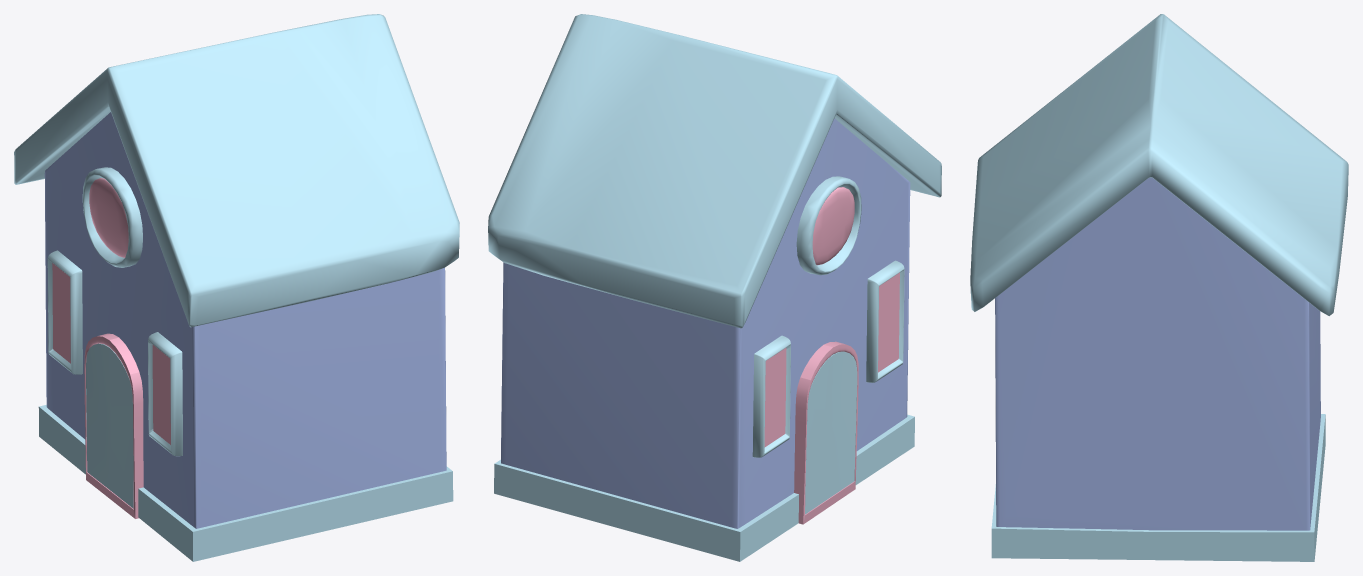
The picture shows the model from 3 angles, left to right: view 1: azimuth 30°, elevation 25°; view 2: azimuth 150°, elevation 25°; view 3: azimuth 270°, elevation 25°; orthographic projection. The views are drawn at different scales.
Visible parts, largest first — view 1: s.0143, s.0152, s.0153, s.0148, s.0144, s.0151, s.0150, s.0147, s.0145; view 2: s.0143, s.0152, s.0153, s.0148, s.0144, s.0151, s.0150, s.0147, s.0145; view 3: s.0152, s.0143, s.0153.
Boxes of the visible parts, left/top/right/bottom form: s.0143: left=14, top=14, right=459, bottom=327; s.0152: left=44, top=112, right=446, bottom=528; s.0153: left=38, top=405, right=453, bottom=561; s.0148: left=86, top=343, right=133, bottom=508; s.0144: left=47, top=250, right=182, bottom=456; s.0151: left=52, top=263, right=170, bottom=444; s.0150: left=84, top=333, right=143, bottom=518; s.0147: left=82, top=167, right=142, bottom=267; s.0145: left=89, top=178, right=128, bottom=257; s.0143: left=488, top=14, right=941, bottom=328; s.0152: left=501, top=118, right=910, bottom=528; s.0153: left=494, top=414, right=914, bottom=561; s.0148: left=805, top=351, right=857, bottom=514; s.0144: left=752, top=260, right=904, bottom=457; s.0151: left=764, top=272, right=899, bottom=447; s.0150: left=794, top=341, right=858, bottom=524; s.0147: left=796, top=176, right=861, bottom=275; s.0145: left=812, top=187, right=854, bottom=265; s.0152: left=995, top=177, right=1320, bottom=530; s.0143: left=970, top=14, right=1348, bottom=316; s.0153: left=991, top=414, right=1325, bottom=561.
Size of the model in its own units: 33.07 by 48.6 by 39.16.
